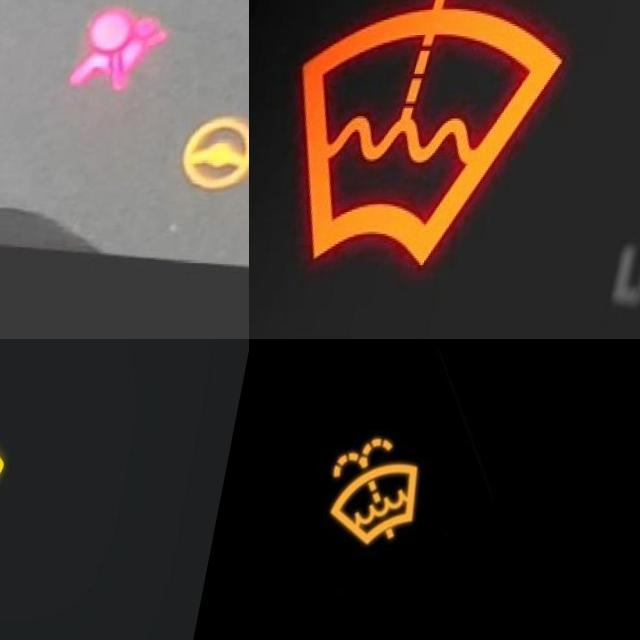Washer Fluid: (281, 0, 591, 269), (330, 436, 440, 546)
